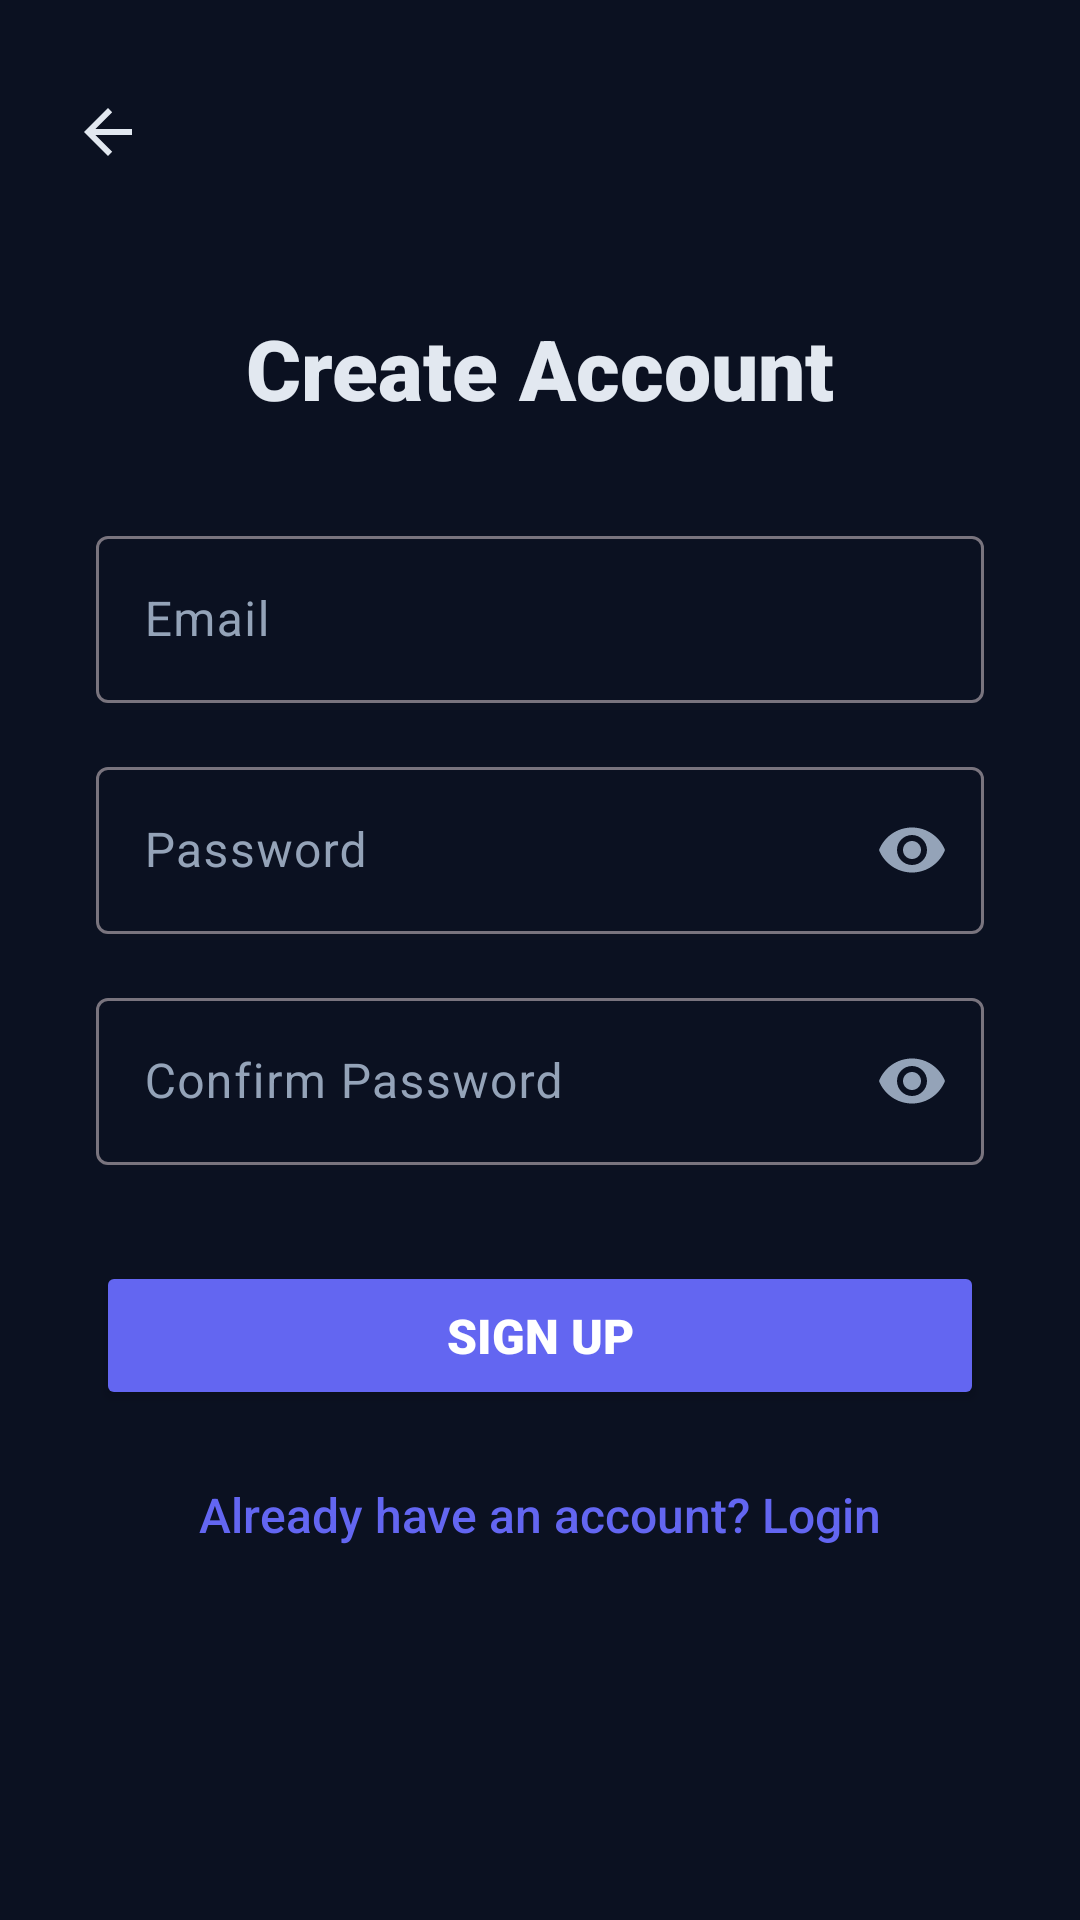

Where icons sit on this 1080px×1920px app screen, as (x1, y1, x2, y2):
Back Button: (84, 108, 132, 156)
